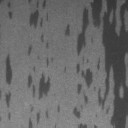red iron: (64, 0, 128, 128), (28, 56, 60, 128), (28, 0, 50, 48), (0, 0, 14, 20), (4, 54, 13, 84), (5, 92, 12, 119), (28, 46, 32, 56)
